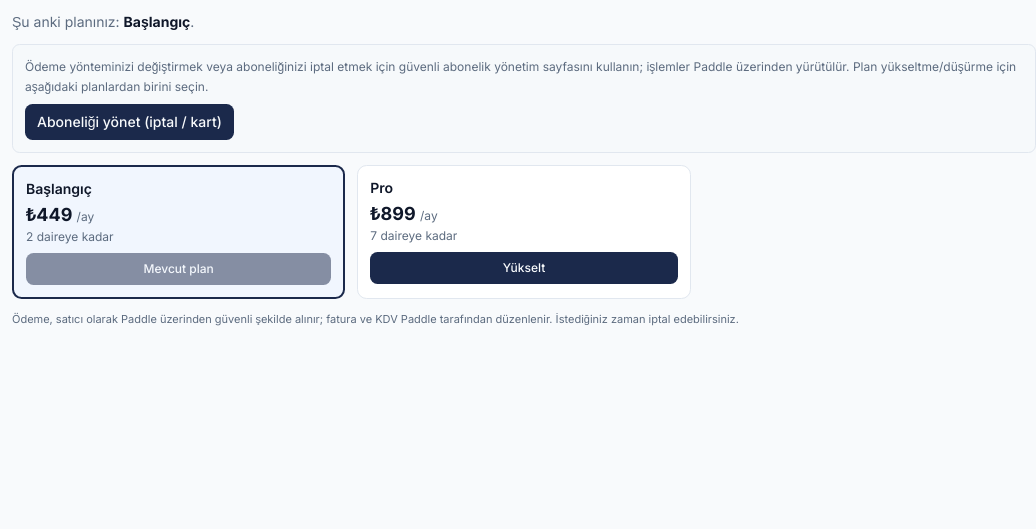
PaddlePlans — plan değişikliği onayı › P6: bağlantı hatası (cevap yolda kayboldu) → bağlantı metni + sayfa yine yenilenir (değişiklik uygulandıysa görünsün)
The image size is (1036, 529).
Click the button "Yükselt" at (524, 268), box [370,252,678,284]
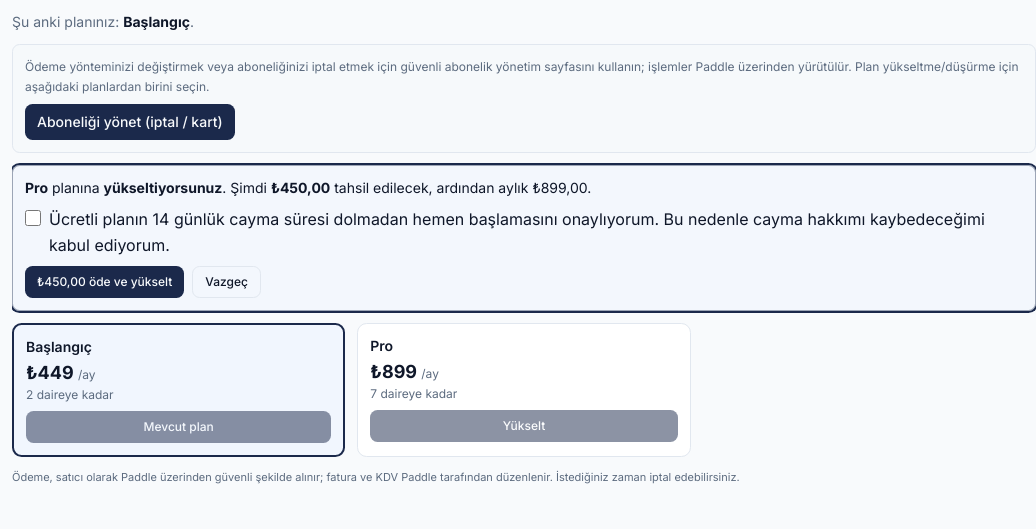
Click the checkbox named "consent-upgrade-immediateStart" at (33, 218), box [25,210,41,226]
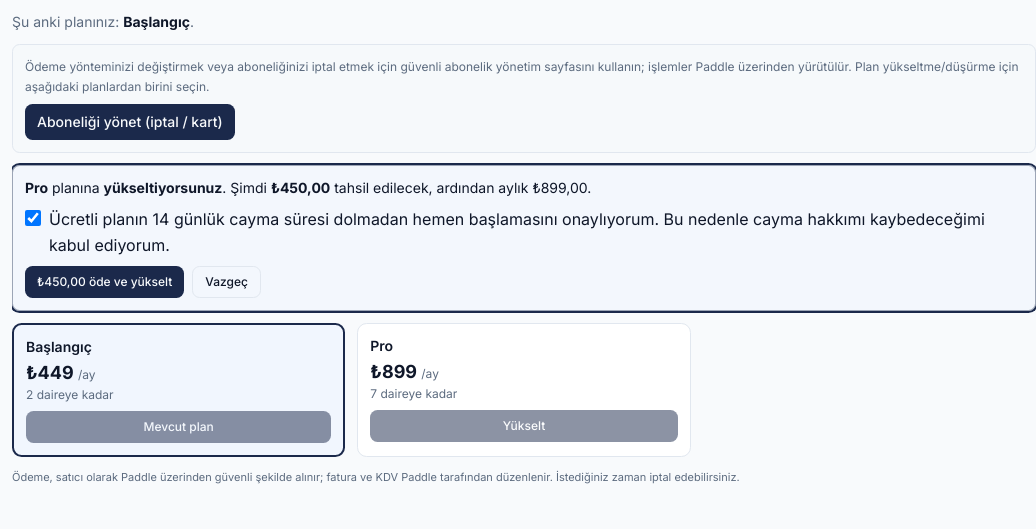
Click the button "₺450,00 öde ve yükselt" at (105, 282), box [25,266,184,298]
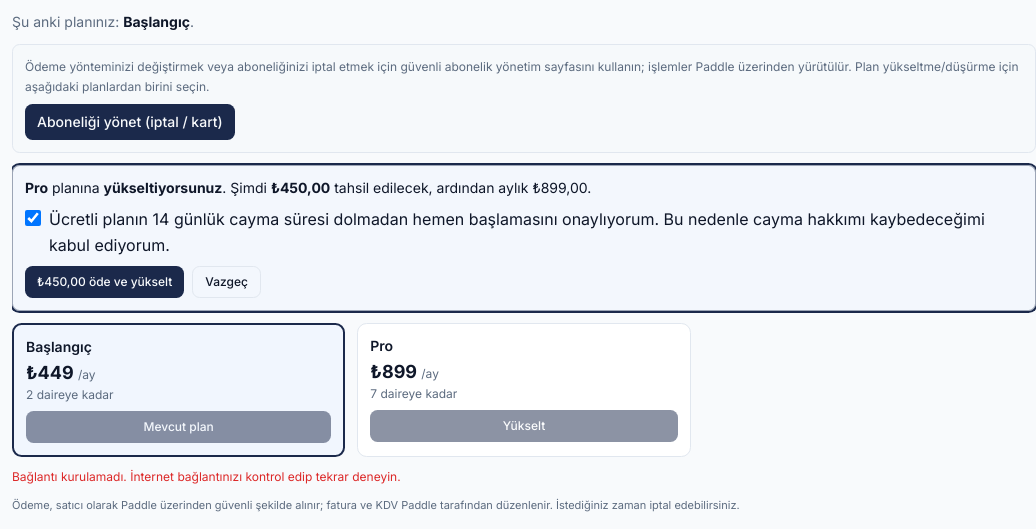
Expected: the text "Bağlantı kurulamadı. İnternet bağlantınızı kontrol edip tekrar deneyin." is shown, [12,469,401,484]
